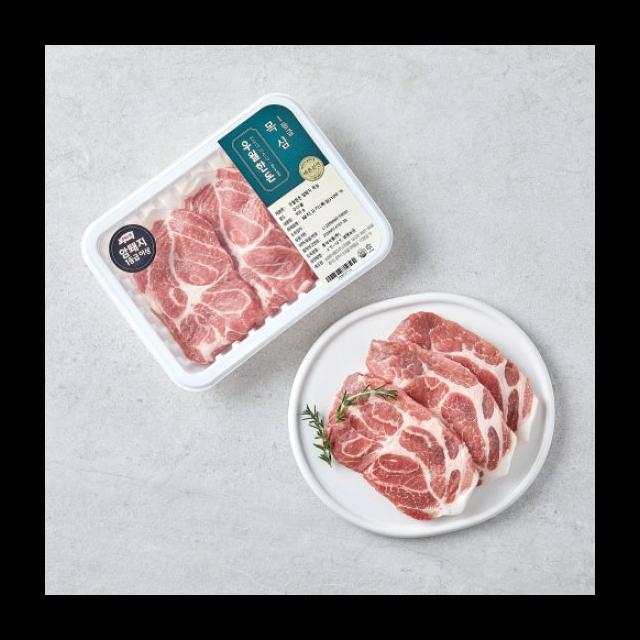beef: (131, 165, 318, 366), (366, 309, 539, 478), (323, 369, 480, 522)
